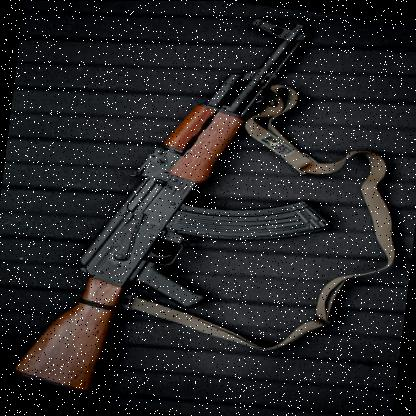rifle: (3, 3, 346, 416)
